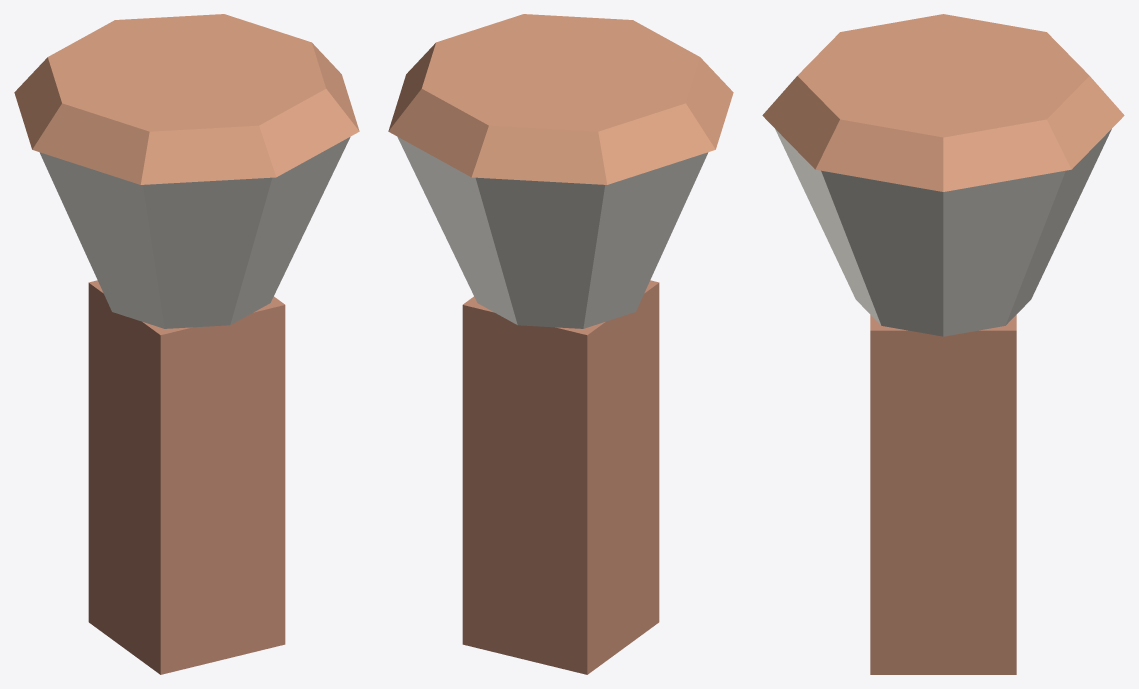
File: VN_Chimenea.fbx
3 views of the same model, side by side, from view 1: azimuth 30°, elevation 25°; view 2: azimuth 150°, elevation 25°; view 3: azimuth 270°, elevation 25° (orthographic).
Visible parts, largest first — view 1: VN_Chimenea; view 2: VN_Chimenea; view 3: VN_Chimenea.
Part boxes in pixels (bbox=[...]): VN_Chimenea: bbox=[14, 14, 359, 674]; VN_Chimenea: bbox=[388, 14, 733, 674]; VN_Chimenea: bbox=[762, 14, 1124, 674].
Bounding box in the file's own units: 1.24 × 2.14 × 1.24.
